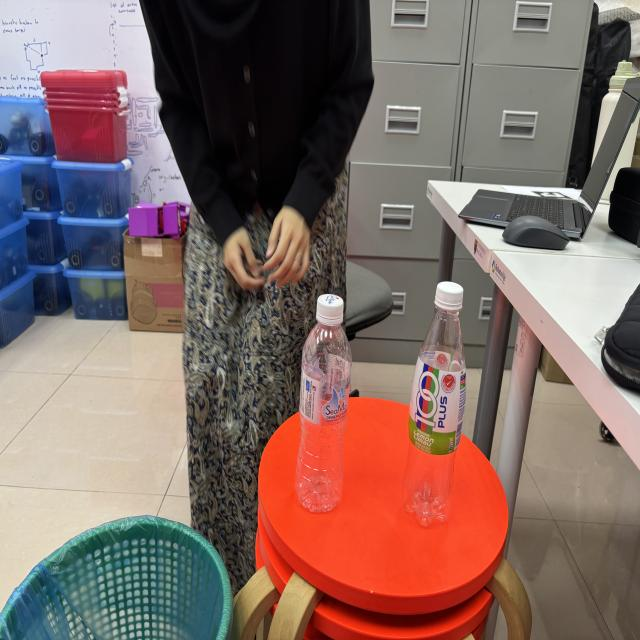dustbin: (1, 506, 242, 640)
plastic_bottle: (397, 267, 472, 544), (291, 284, 357, 521)
